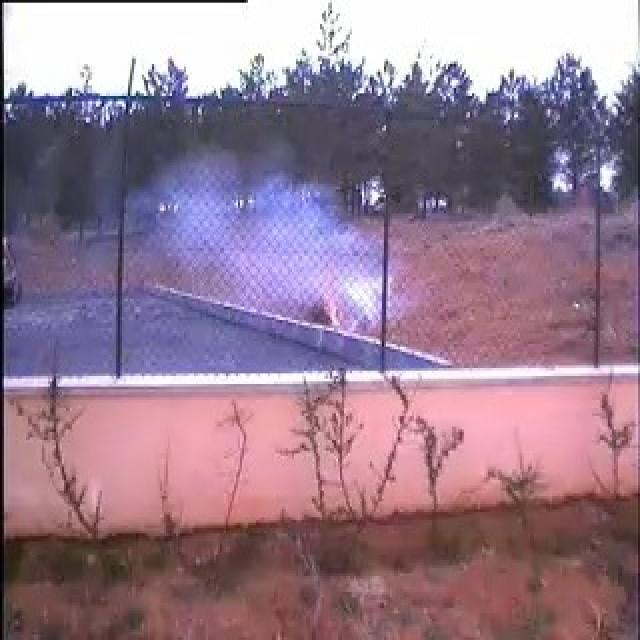smoke: (126, 142, 391, 365)
